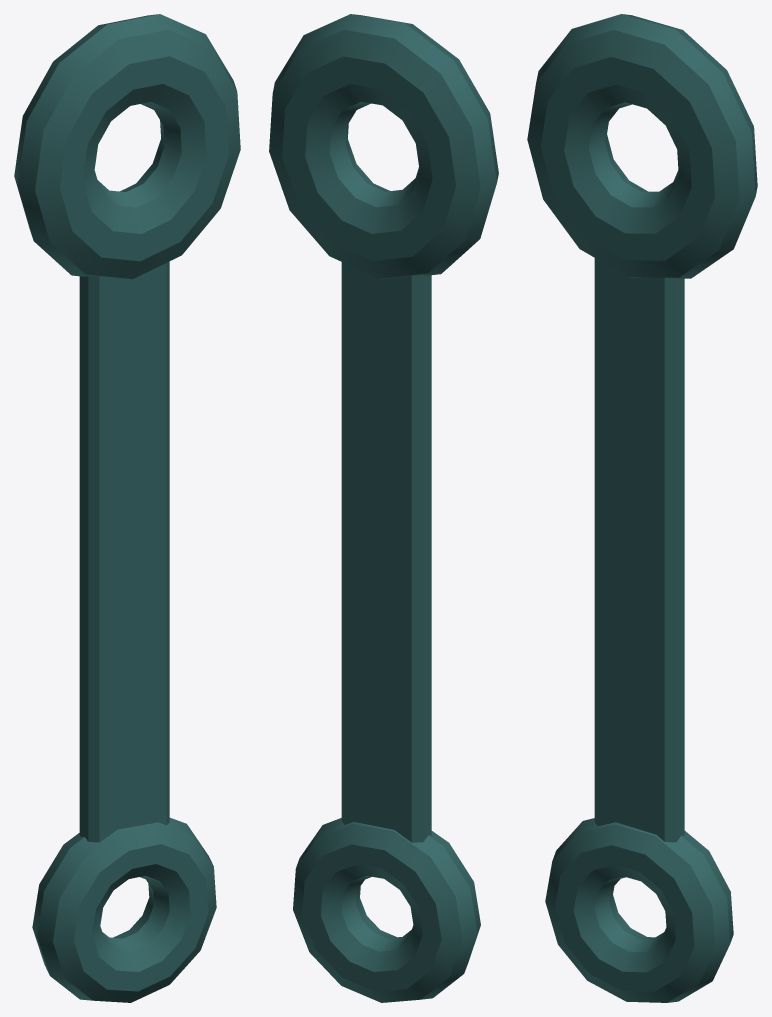
The model's file is wrench low.fbx.
The picture shows the model from 3 angles, left to right: view 1: azimuth 30°, elevation 25°; view 2: azimuth 150°, elevation 25°; view 3: azimuth 330°, elevation 25°; orthographic projection.
Parts seen in each view (by area): view 1: wrench_03_low, wrench_02_low, wrench_01_low; view 2: wrench_03_low, wrench_02_low, wrench_01_low; view 3: wrench_03_low, wrench_02_low, wrench_01_low.
Part boxes in pixels (bbox=[...]): wrench_03_low: bbox=[79, 261, 169, 842]; wrench_02_low: bbox=[14, 14, 240, 279]; wrench_01_low: bbox=[32, 817, 216, 1002]; wrench_03_low: bbox=[341, 262, 431, 842]; wrench_02_low: bbox=[269, 14, 498, 278]; wrench_01_low: bbox=[293, 818, 480, 1002]; wrench_03_low: bbox=[594, 258, 684, 842]; wrench_02_low: bbox=[527, 14, 757, 278]; wrench_01_low: bbox=[545, 818, 733, 1002].
Bounding box in the file's own units: 10.82 × 45.5 × 2.85.
